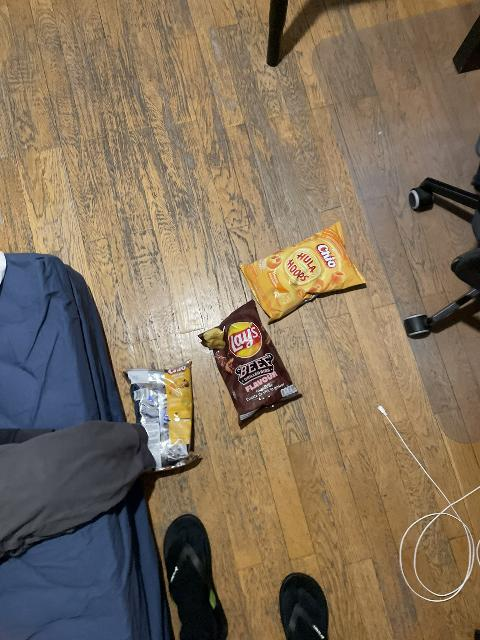Chio Cascaval 125g: (121, 361, 197, 466)
Chio Hula Hoops Cheese 70g: (237, 224, 363, 320)
Lays Beef Grilled Ribs 125g: (205, 301, 307, 421)
